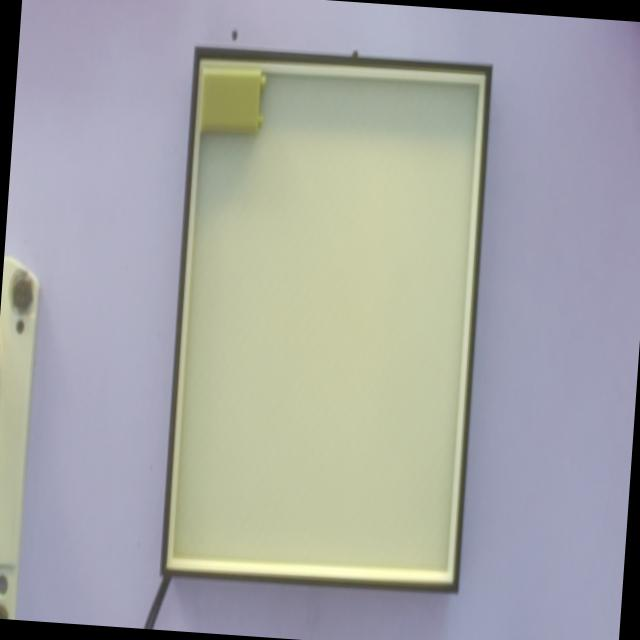bateria: (199, 67, 265, 134)
mesa: (159, 45, 492, 593)
